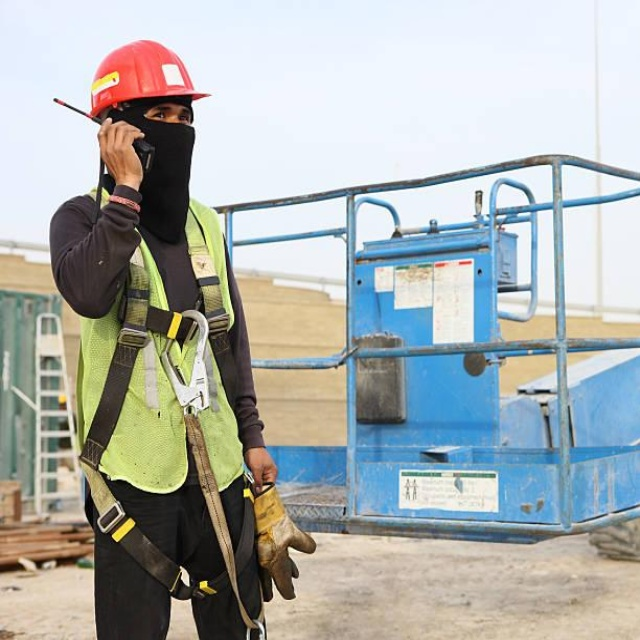Arnes_seguridad: (71, 181, 257, 620)
